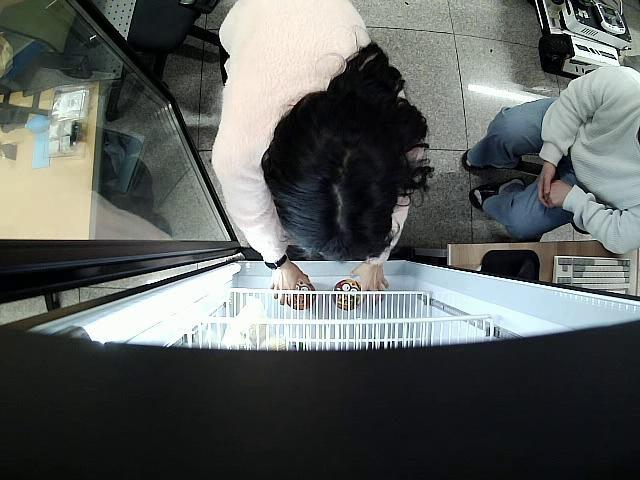06_nuguri_S: (332, 278, 362, 311), (286, 282, 316, 311)
